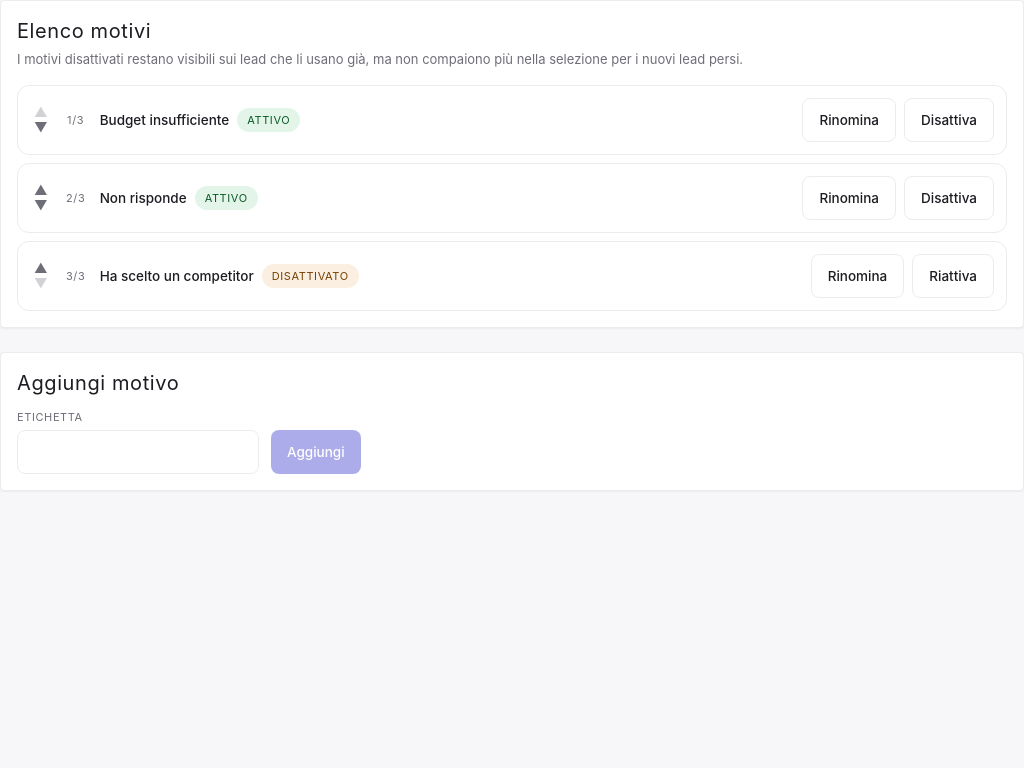
Scenario: LossReasonsPanel › rolls back and shows a localized error when reorder fails
Click the button named "Sposta in basso: Budget insufficiente": (41, 128) [30,121,52,135]
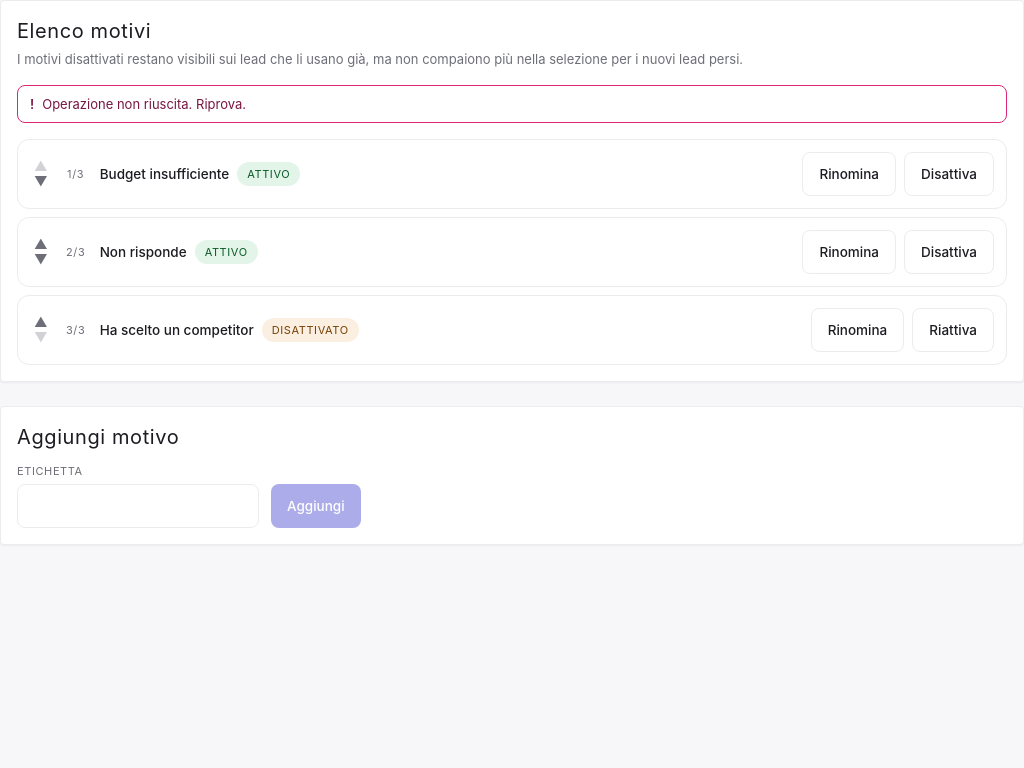
Now the text "Operazione non riuscita. Riprova." is shown, box [42,94,246,114]
